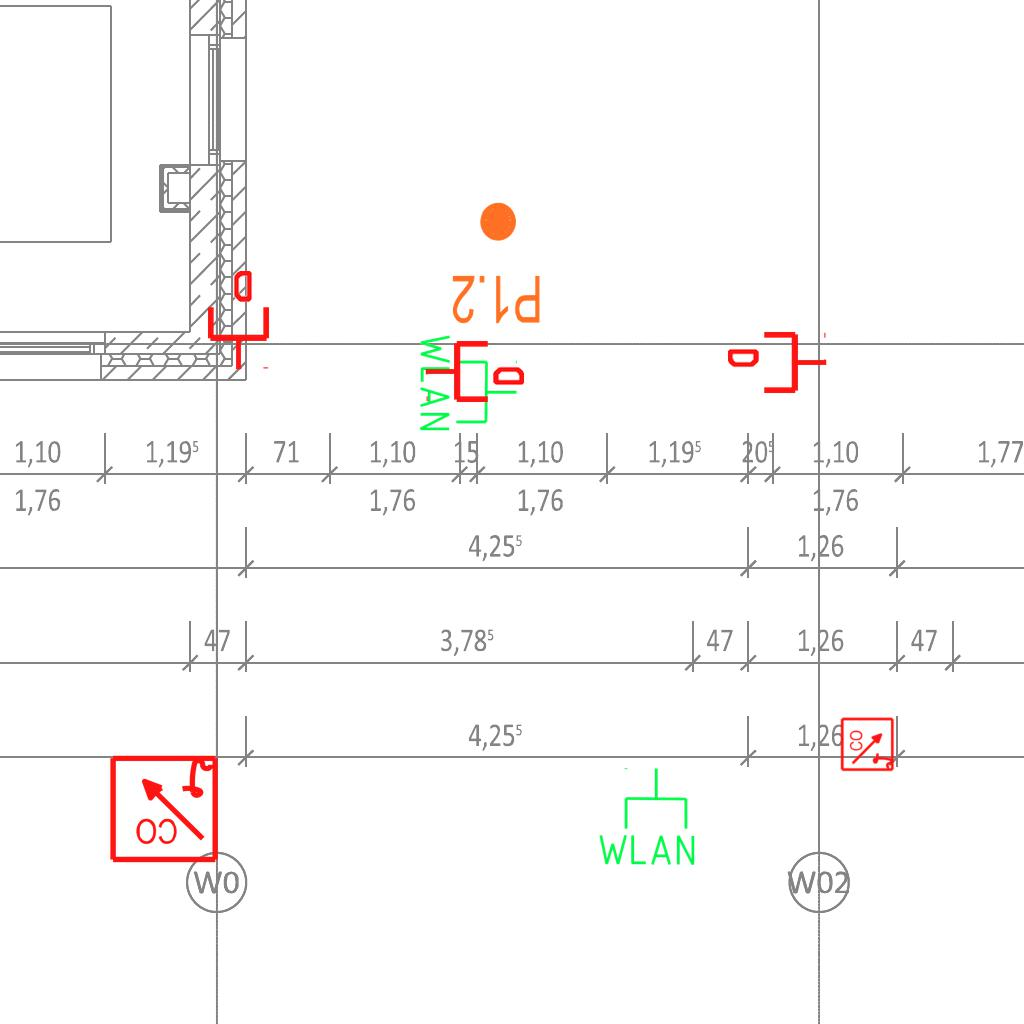Datenanschluss_einfach: (728, 328, 828, 397), (204, 271, 273, 371), (424, 337, 524, 406)
Downlight_LED_Einbauleuchten_Flur: (450, 199, 543, 327)
ROA_Rauchmelder_optisch_mit_Signalgeber_(Sockelsirene): (107, 751, 220, 864), (840, 716, 896, 772)
WLAN: (416, 330, 520, 435), (594, 765, 699, 869)
